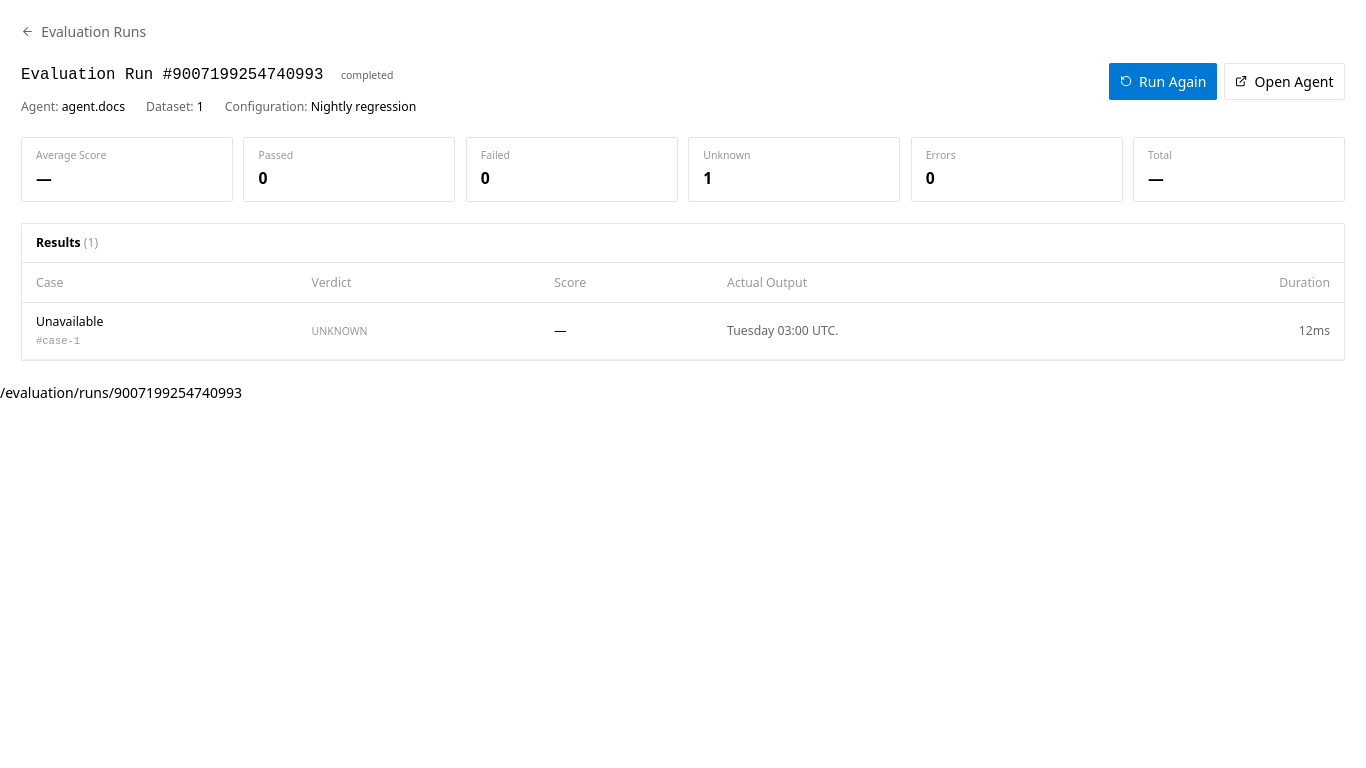
Test case: Evaluation retrieval evidence surface › says no retrieval occurred instead of showing an empty summary
What coordinates should you click on to do the following:
click the text "Tuesday 03:00 UTC."
I would click on:
 (783, 330)
Its box is [713,302,1116,359].
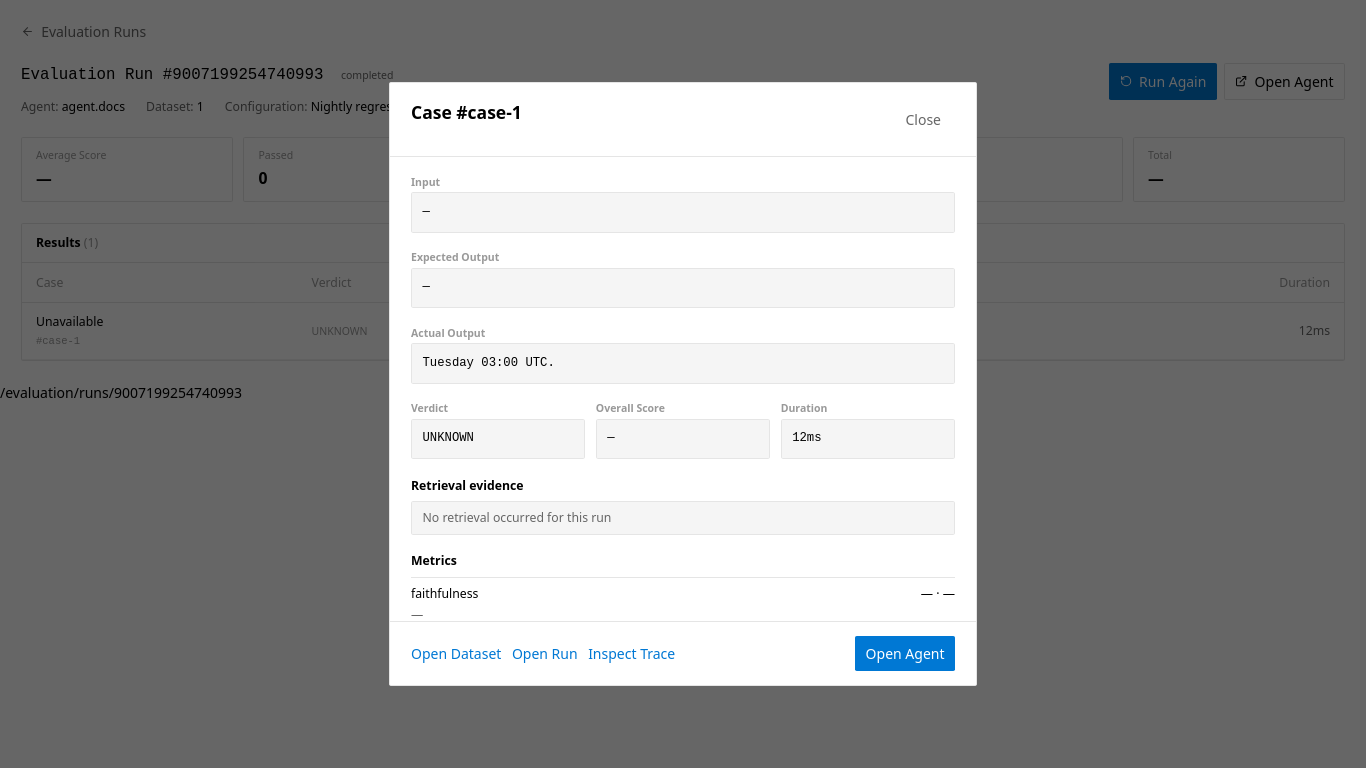
Now the text "No retrieval occurred for this run" is shown, box [411,501,955,535]
